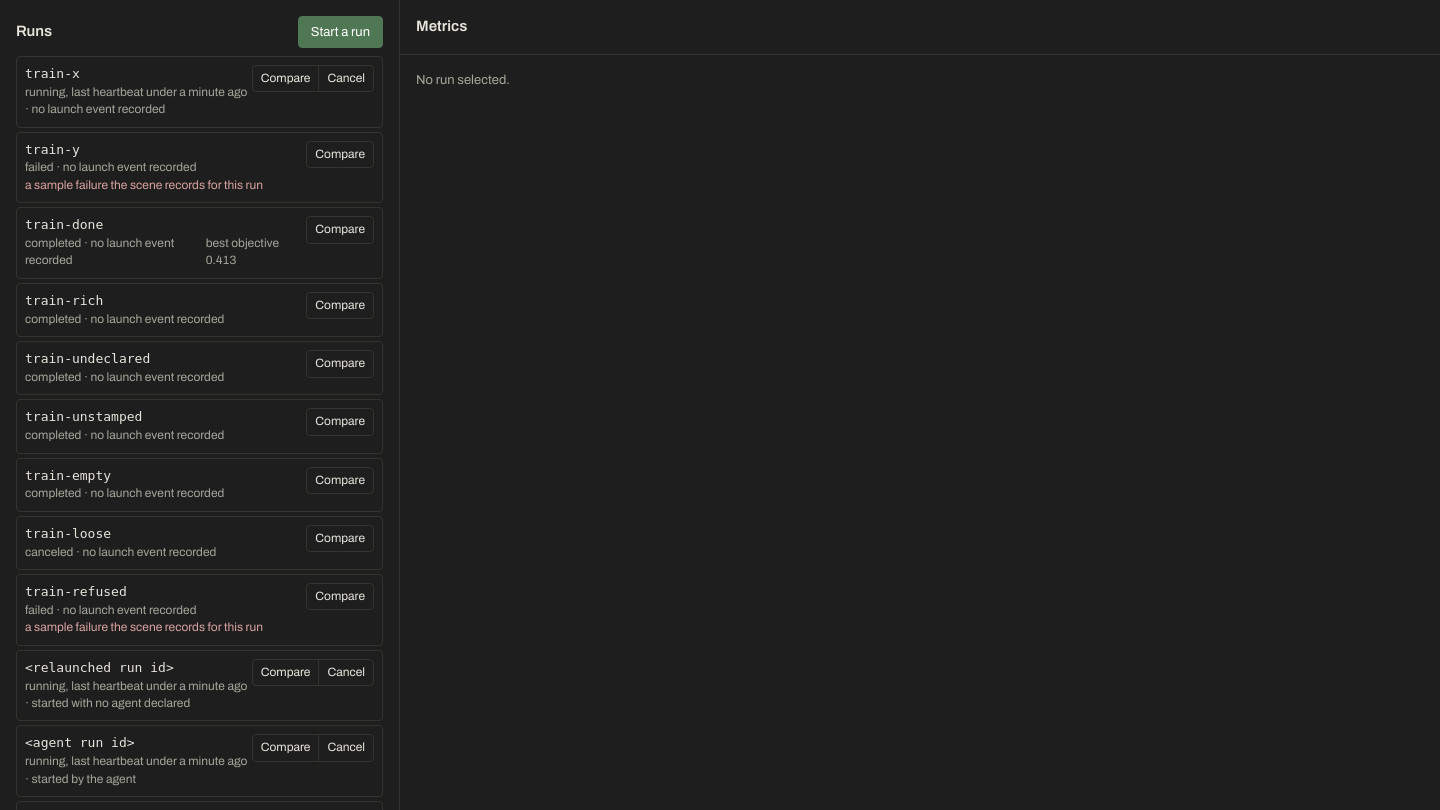
TrainingTab tensorboard panel › says a run produced no logs and offers no Try again, rather than a raw refusal
What coordinates should you click on to do the following:
click the text "train-empty"
I would click on:
 (68, 475)
Its box is [25,468,111,483].
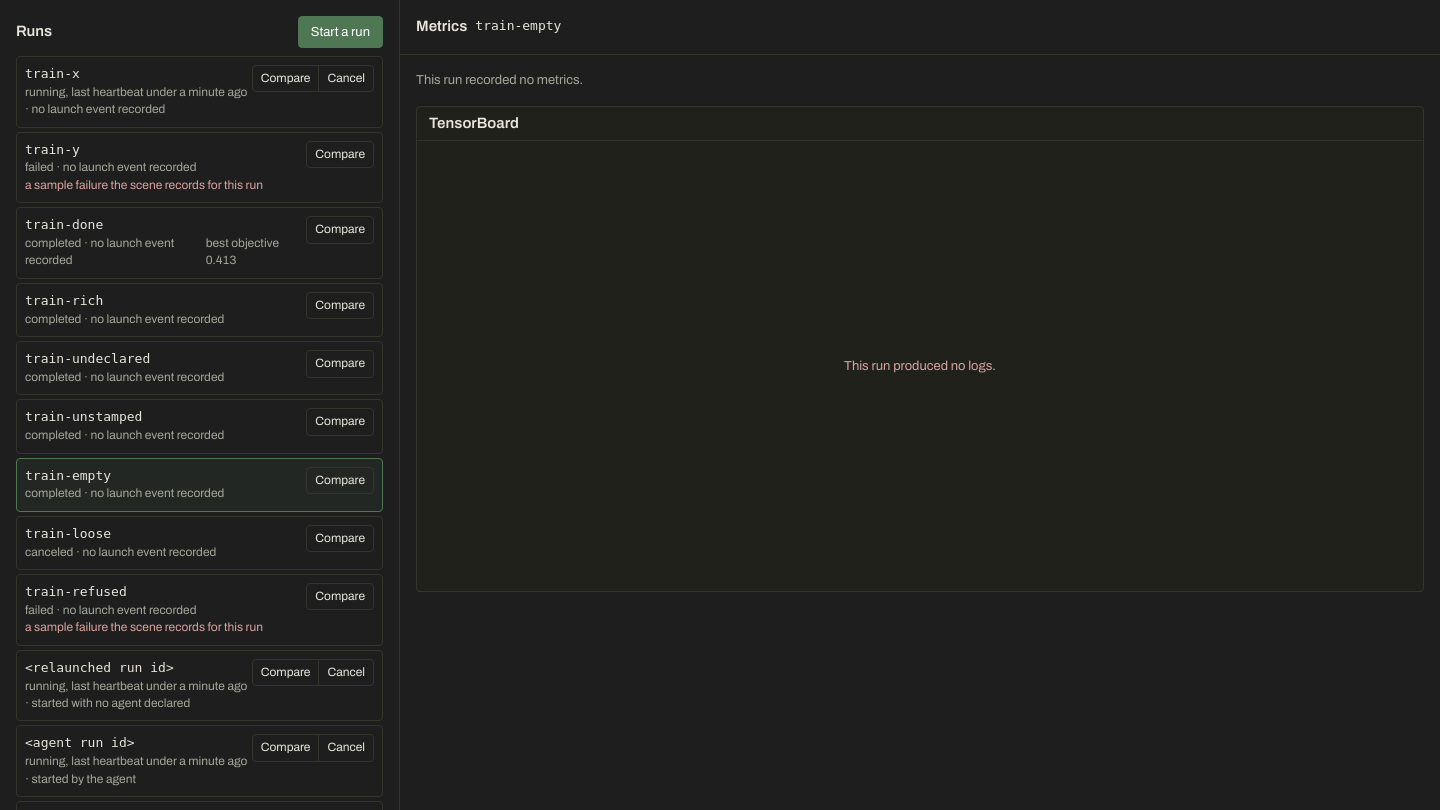
Expected: the text "This run produced no logs." is shown, [844,356,996,375]
